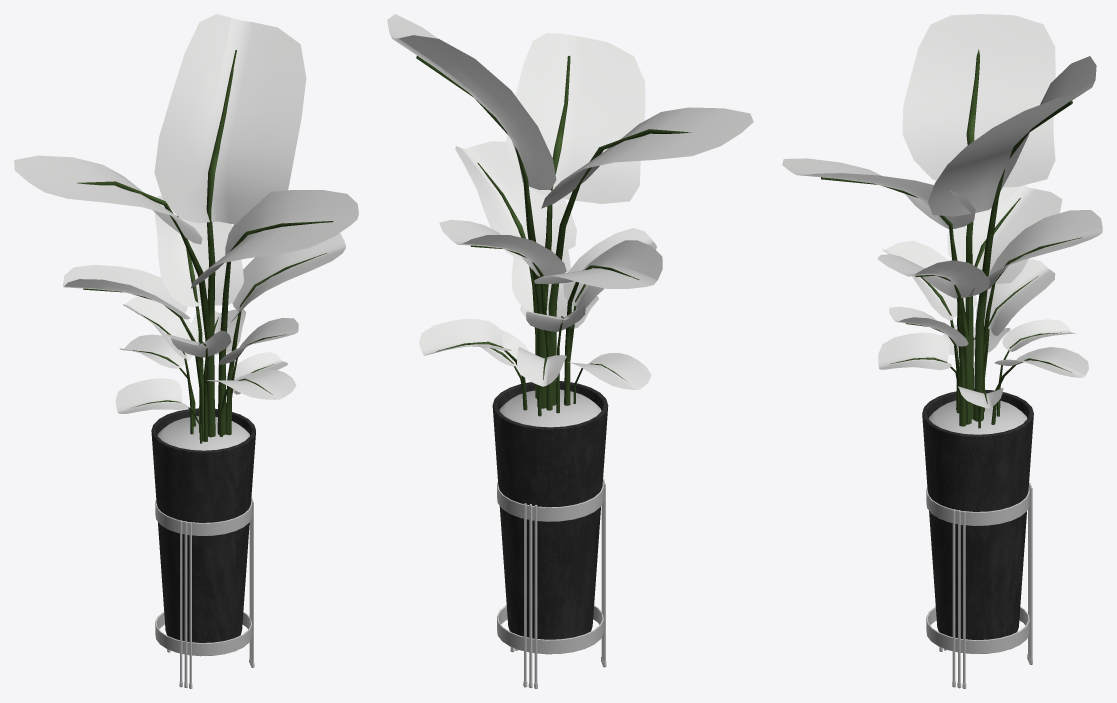
File: pottedPlant_04.fbx
3 renders of one model, left to right at view 1: azimuth 30°, elevation 25°; view 2: azimuth 150°, elevation 25°; view 3: azimuth 270°, elevation 25°, orthographic. The views are drawn at different scales.
Parts seen in each view (by area): view 1: leaves_geo, potBase_geo, stems_geo, potMetal_geo, dirt_geo; view 2: leaves_geo, potBase_geo, stems_geo, potMetal_geo, dirt_geo; view 3: leaves_geo, potBase_geo, stems_geo, potMetal_geo, dirt_geo.
Part boxes in pixels (x1,y1,x2,y2): leaves_geo: [14, 14, 358, 413]; potBase_geo: [151, 408, 255, 642]; stems_geo: [77, 50, 333, 443]; potMetal_geo: [155, 497, 254, 688]; dirt_geo: [157, 416, 249, 450]; leaves_geo: [387, 14, 753, 389]; potBase_geo: [492, 381, 608, 639]; stems_geo: [416, 55, 691, 416]; potMetal_geo: [497, 478, 606, 688]; dirt_geo: [499, 389, 601, 427]; leaves_geo: [782, 14, 1102, 408]; potBase_geo: [922, 389, 1033, 639]; stems_geo: [821, 49, 1082, 428]; potMetal_geo: [926, 482, 1032, 688]; dirt_geo: [928, 400, 1027, 434].
Size of the model in its own units: 73.49 by 143 by 65.39.
